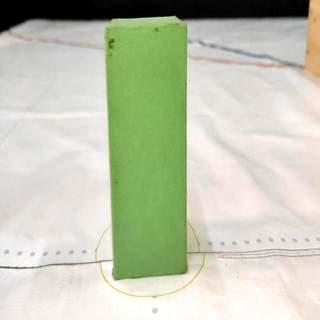greenbox: (105, 16, 192, 278)
